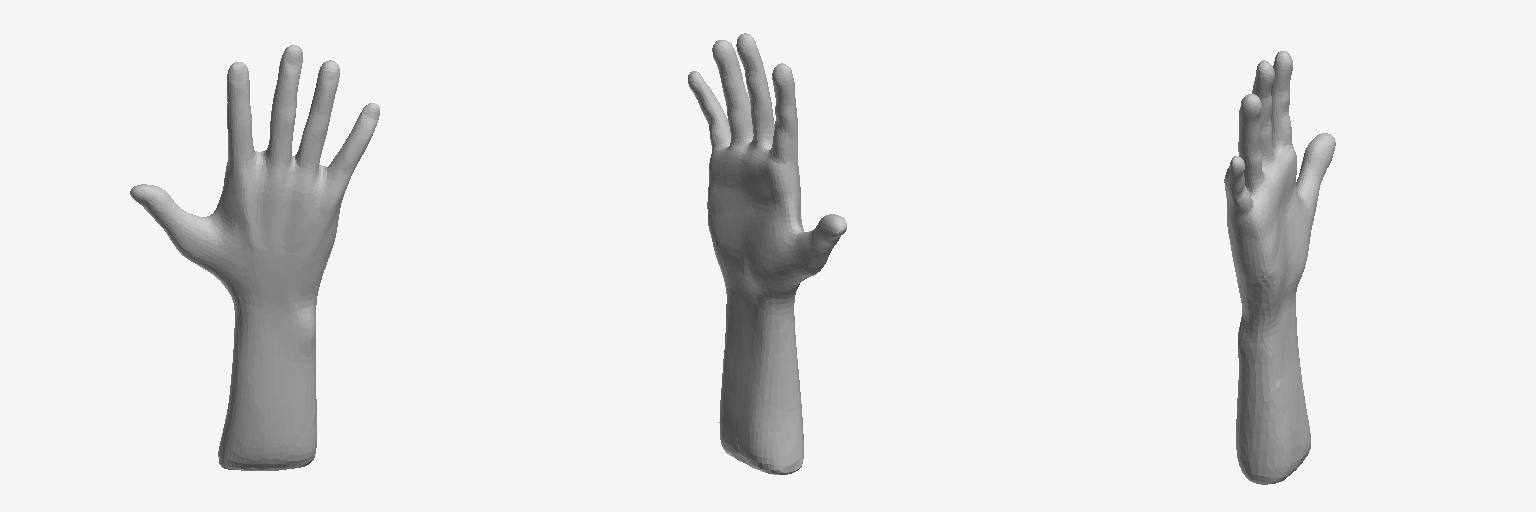
File: main5.obj
3 views of the same model, side by side, from view 1: azimuth 30°, elevation 25°; view 2: azimuth 150°, elevation 25°; view 3: azimuth 270°, elevation 25° (orthographic).
Parts seen in each view (by area): view 1: ZBrush_defualt_group; view 2: ZBrush_defualt_group; view 3: ZBrush_defualt_group.
Part boxes in pixels (left/top/right/bottom): ZBrush_defualt_group: left=130, top=45, right=379, bottom=470; ZBrush_defualt_group: left=688, top=33, right=846, bottom=474; ZBrush_defualt_group: left=1224, top=51, right=1335, bottom=484.
Size of the model in its own units: 5.03 by 9.92 by 2.4.